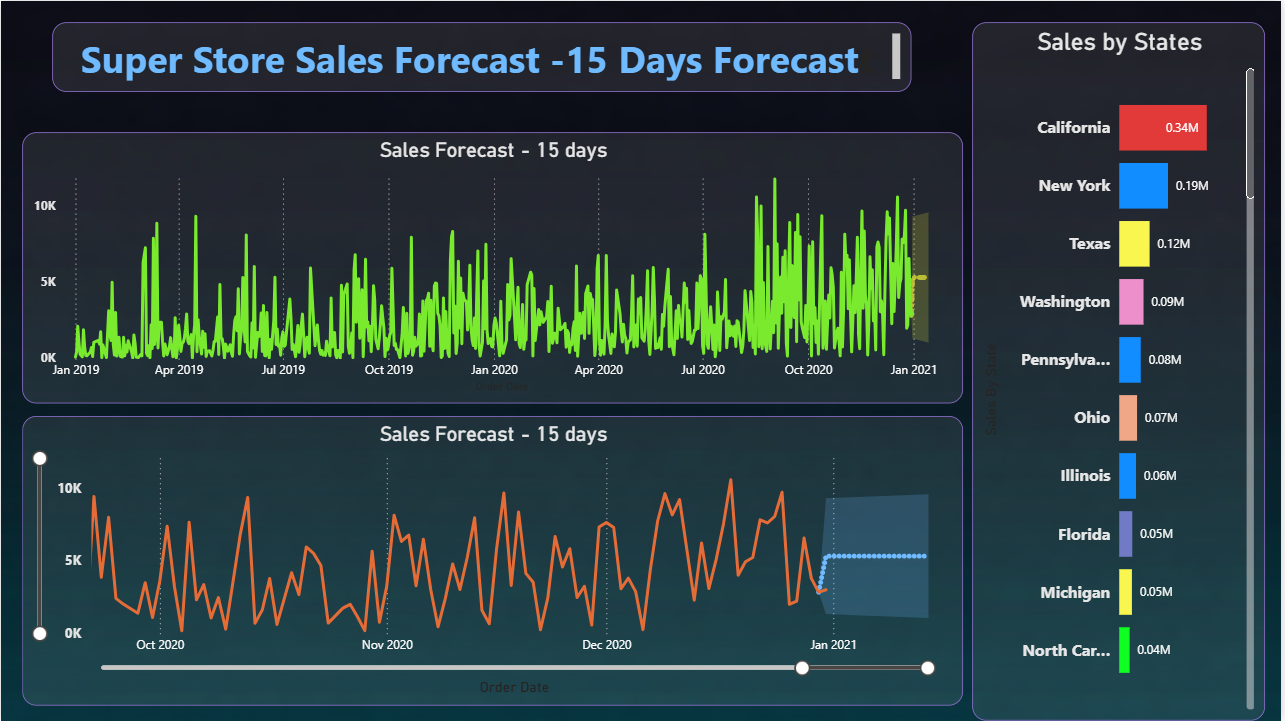

The dashboard page shown, as its layout file describes it:
{"tool":"powerbi","page":{"name":"Page 3","canvas":[1280,720],"ordinal":1},"visuals":[{"type":"lineChart","title":"Sales Forecast - 15 days","fields":{"Y":["Sum(SuperStore_Sales_Dataset.Sales)"],"Category":["SuperStore_Sales_Dataset.Order Date"]},"box":[21.7,415,941,289.5],"z":0},{"type":"lineChart","title":"Sales Forecast - 15 days ","fields":{"Y":["Sum(SuperStore_Sales_Dataset.Sales)"],"Category":["SuperStore_Sales_Dataset.Order Date"]},"box":[21.7,131.5,941,271.4],"z":1000},{"type":"clusteredBarChart","title":"Sales by States","fields":{"Y":["Sum(SuperStore_Sales_Dataset.Sales)"],"Category":["SuperStore_Sales_Dataset.State"]},"box":[971.2,21.7,293.2,698.5],"z":2000},{"type":"textbox","box":[50.7,21.7,859,70],"z":3000}]}

Visuals, with their boxes in screenshot pixels (x1, y1, x2, y2), scaled from the page's 1280x720 canvas onto the 1285x721 screenshot:
"Sales Forecast - 15 days" lineChart: 22/416/966/705
"Sales Forecast - 15 days " lineChart: 22/132/966/403
"Sales by States" clusteredBarChart: 975/22/1269/720
textbox: 51/22/913/92
